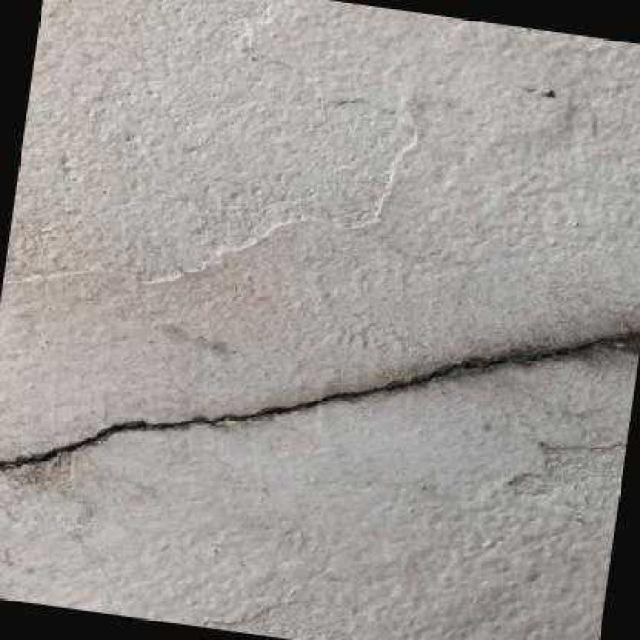D00: (0, 330, 640, 467)
